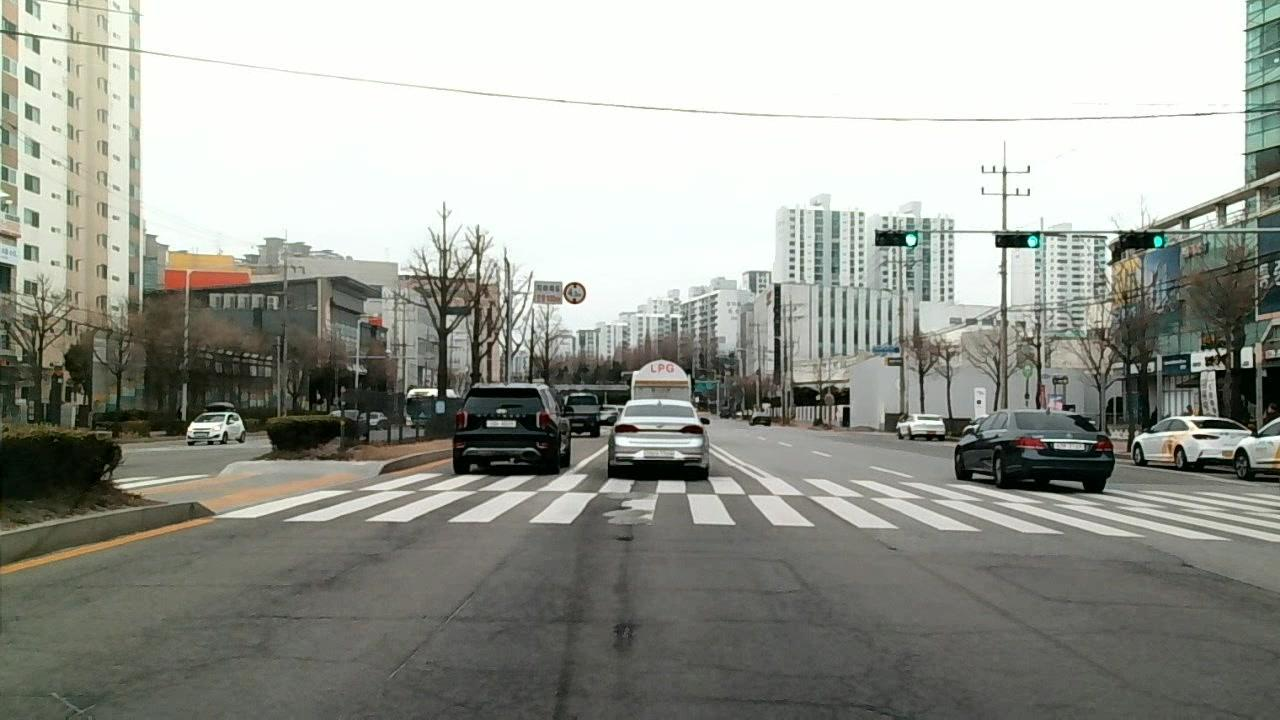banner: (375, 583, 484, 684), (645, 692, 898, 714), (1158, 543, 1265, 594), (687, 658, 871, 686), (649, 610, 853, 632), (23, 680, 115, 719), (654, 579, 814, 600), (214, 640, 340, 666), (228, 606, 374, 627), (987, 566, 1044, 605), (1051, 598, 1160, 608), (773, 554, 806, 582)
